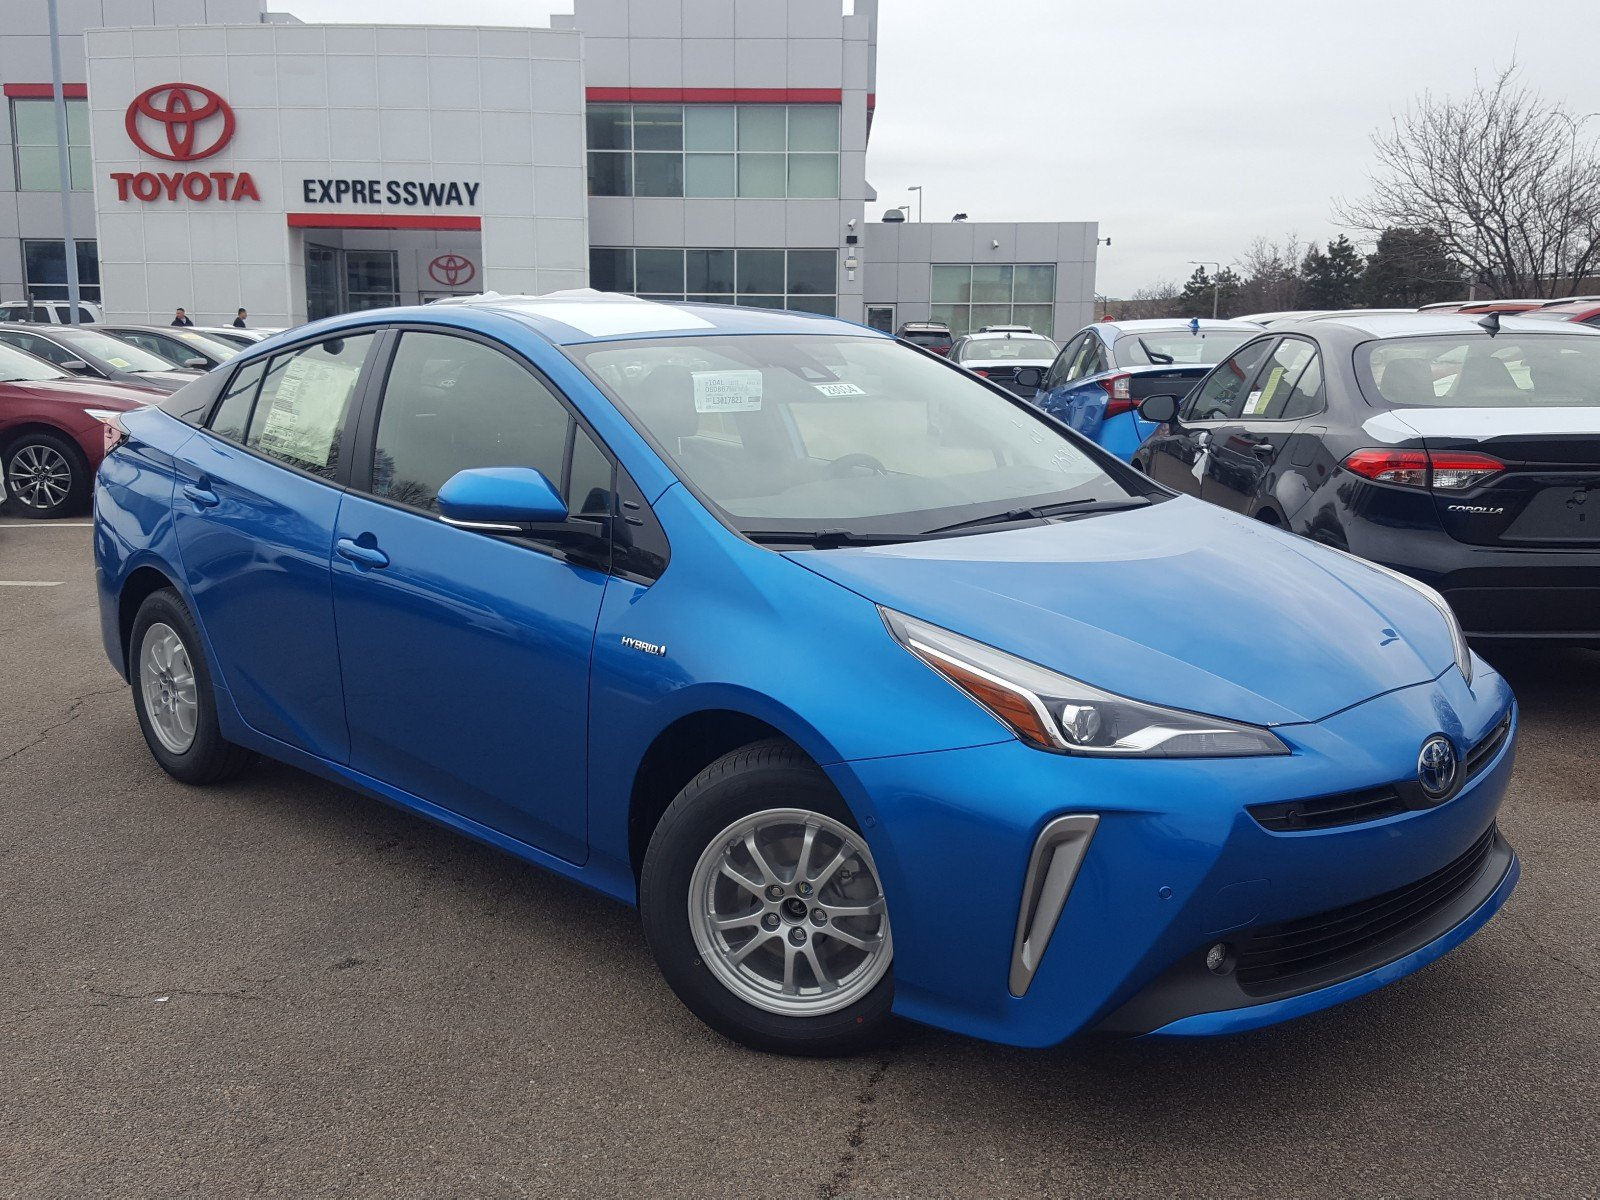Toyota Prius: (93, 304, 1519, 1063)
